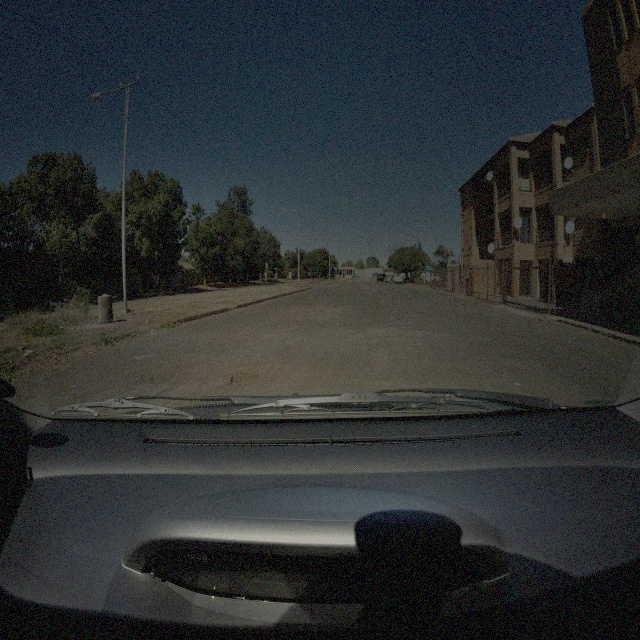pothole: (229, 370, 261, 388)
